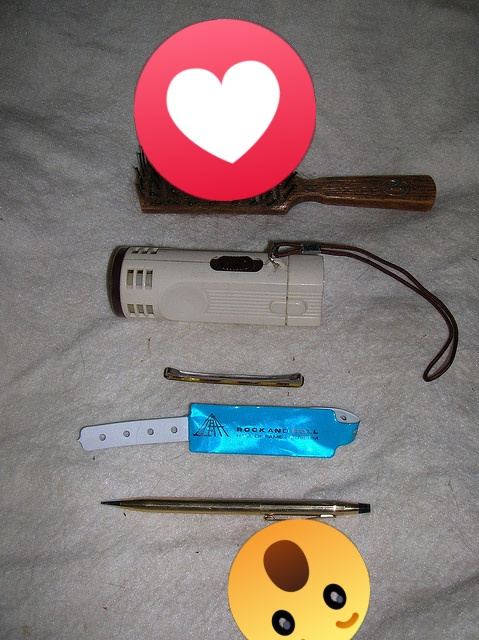love: (134, 19, 316, 201)
wow: (228, 519, 370, 640)
